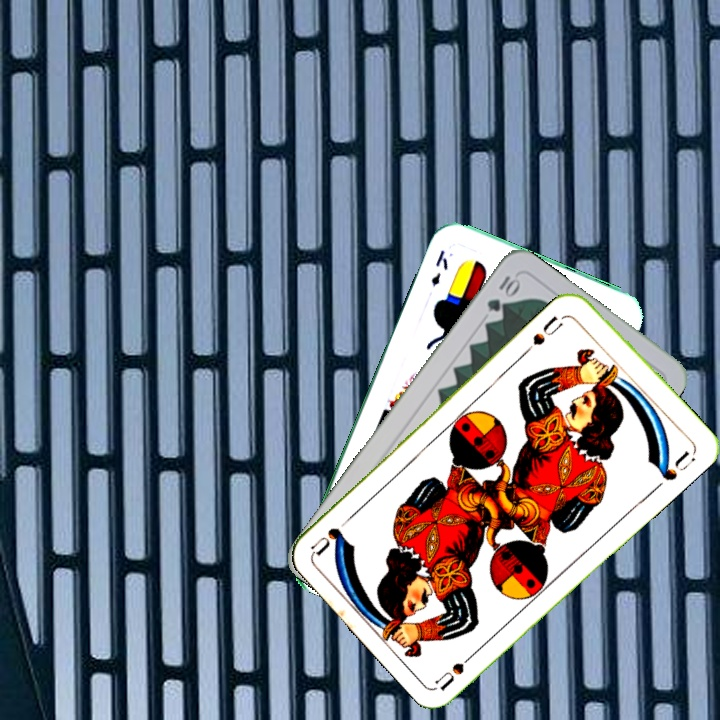EK: (427, 245, 451, 289)
G10: (482, 271, 522, 315)
SU: (432, 644, 483, 692), (522, 310, 571, 355)
